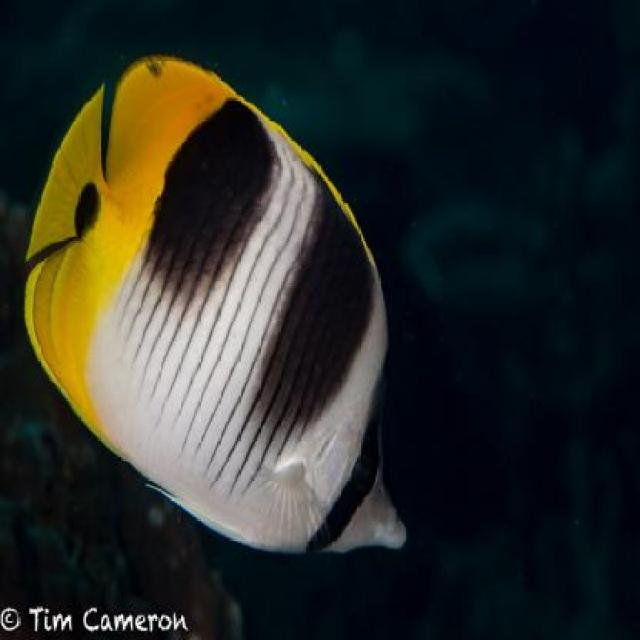ButterflyFish: (27, 56, 409, 557)
